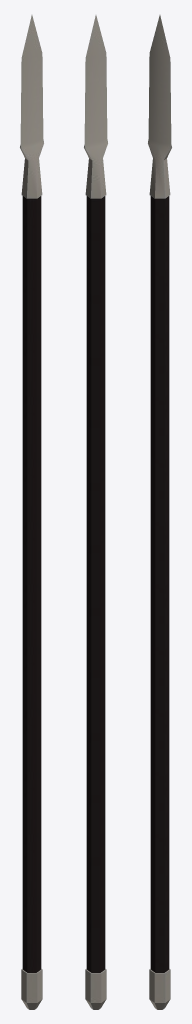
Rendered from spear.fbx.
3 renders of one model, left to right at view 1: azimuth 30°, elevation 25°; view 2: azimuth 210°, elevation 25°; view 3: azimuth 330°, elevation 25°, orthographic.
Visible parts, largest first — view 1: Cylinder.005_Baked; view 2: Cylinder.005_Baked; view 3: Cylinder.005_Baked.
Part boxes in pixels (<box>): Cylinder.005_Baked: <box>20,15,43,1009</box>; Cylinder.005_Baked: <box>84,15,107,1009</box>; Cylinder.005_Baked: <box>148,15,171,1009</box>.
Bounding box in the file's own units: 4.86 × 201 × 3.87.
